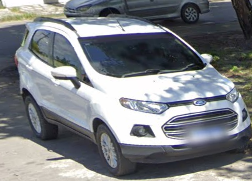car: (13, 15, 250, 178)
